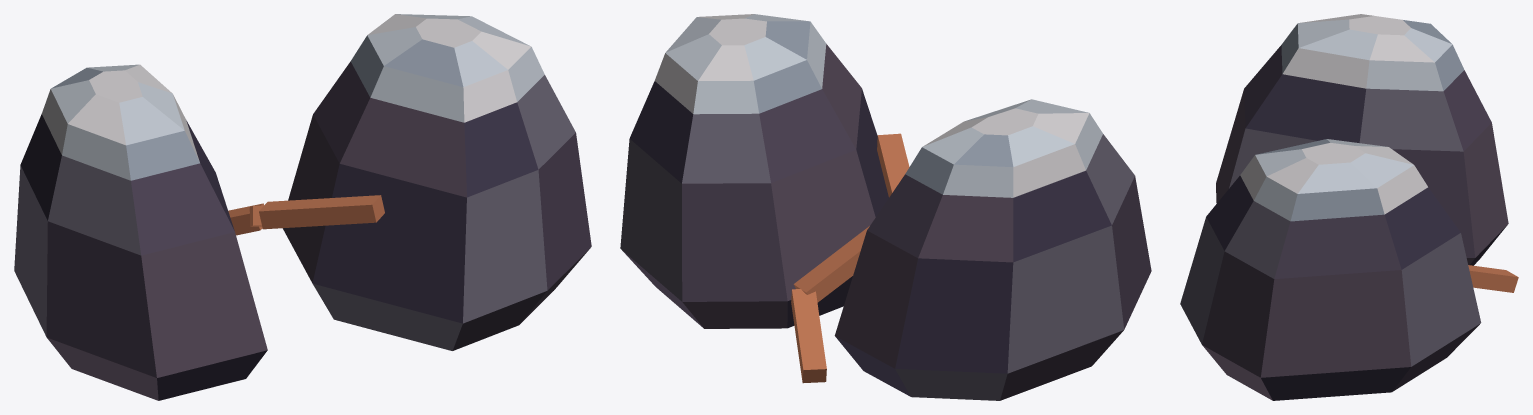
Rendered from copper-ore.glb.
The picture shows the model from 3 angles, left to right: view 1: azimuth 30°, elevation 25°; view 2: azimuth 150°, elevation 25°; view 3: azimuth 270°, elevation 25°; orthographic projection. The views are drawn at different scales.
Parts seen in each view (by area): view 1: copper-ore; view 2: copper-ore; view 3: copper-ore.
Part boxes in pixels (x1=…): copper-ore: x1=14, y1=14, x2=591, y2=400; copper-ore: x1=620, y1=14, x2=1151, y2=400; copper-ore: x1=1180, y1=14, x2=1518, y2=400.
Bounding box in the file's own units: 3.56 × 1.7 × 2.41.
